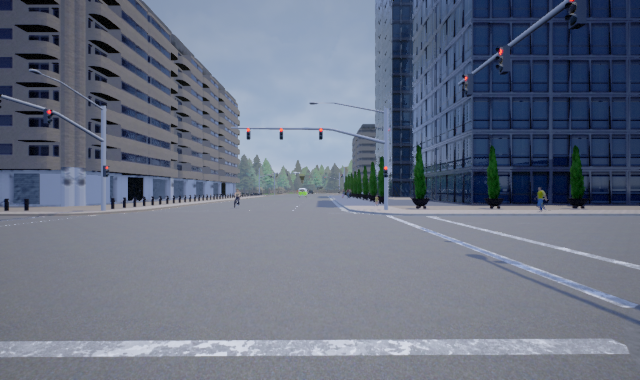bike: (232, 188, 243, 208)
pedestrian: (533, 185, 548, 212)
vehicle: (297, 186, 309, 198)
